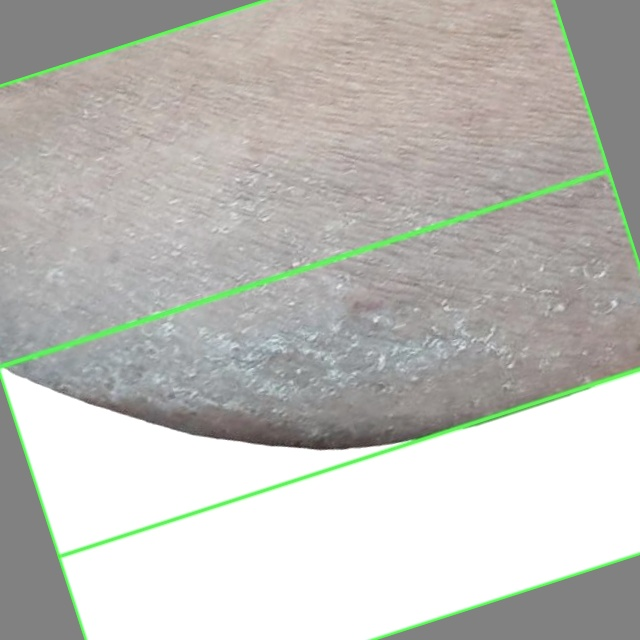Tinea Corporis: (0, 0, 639, 556), (0, 170, 639, 639)
